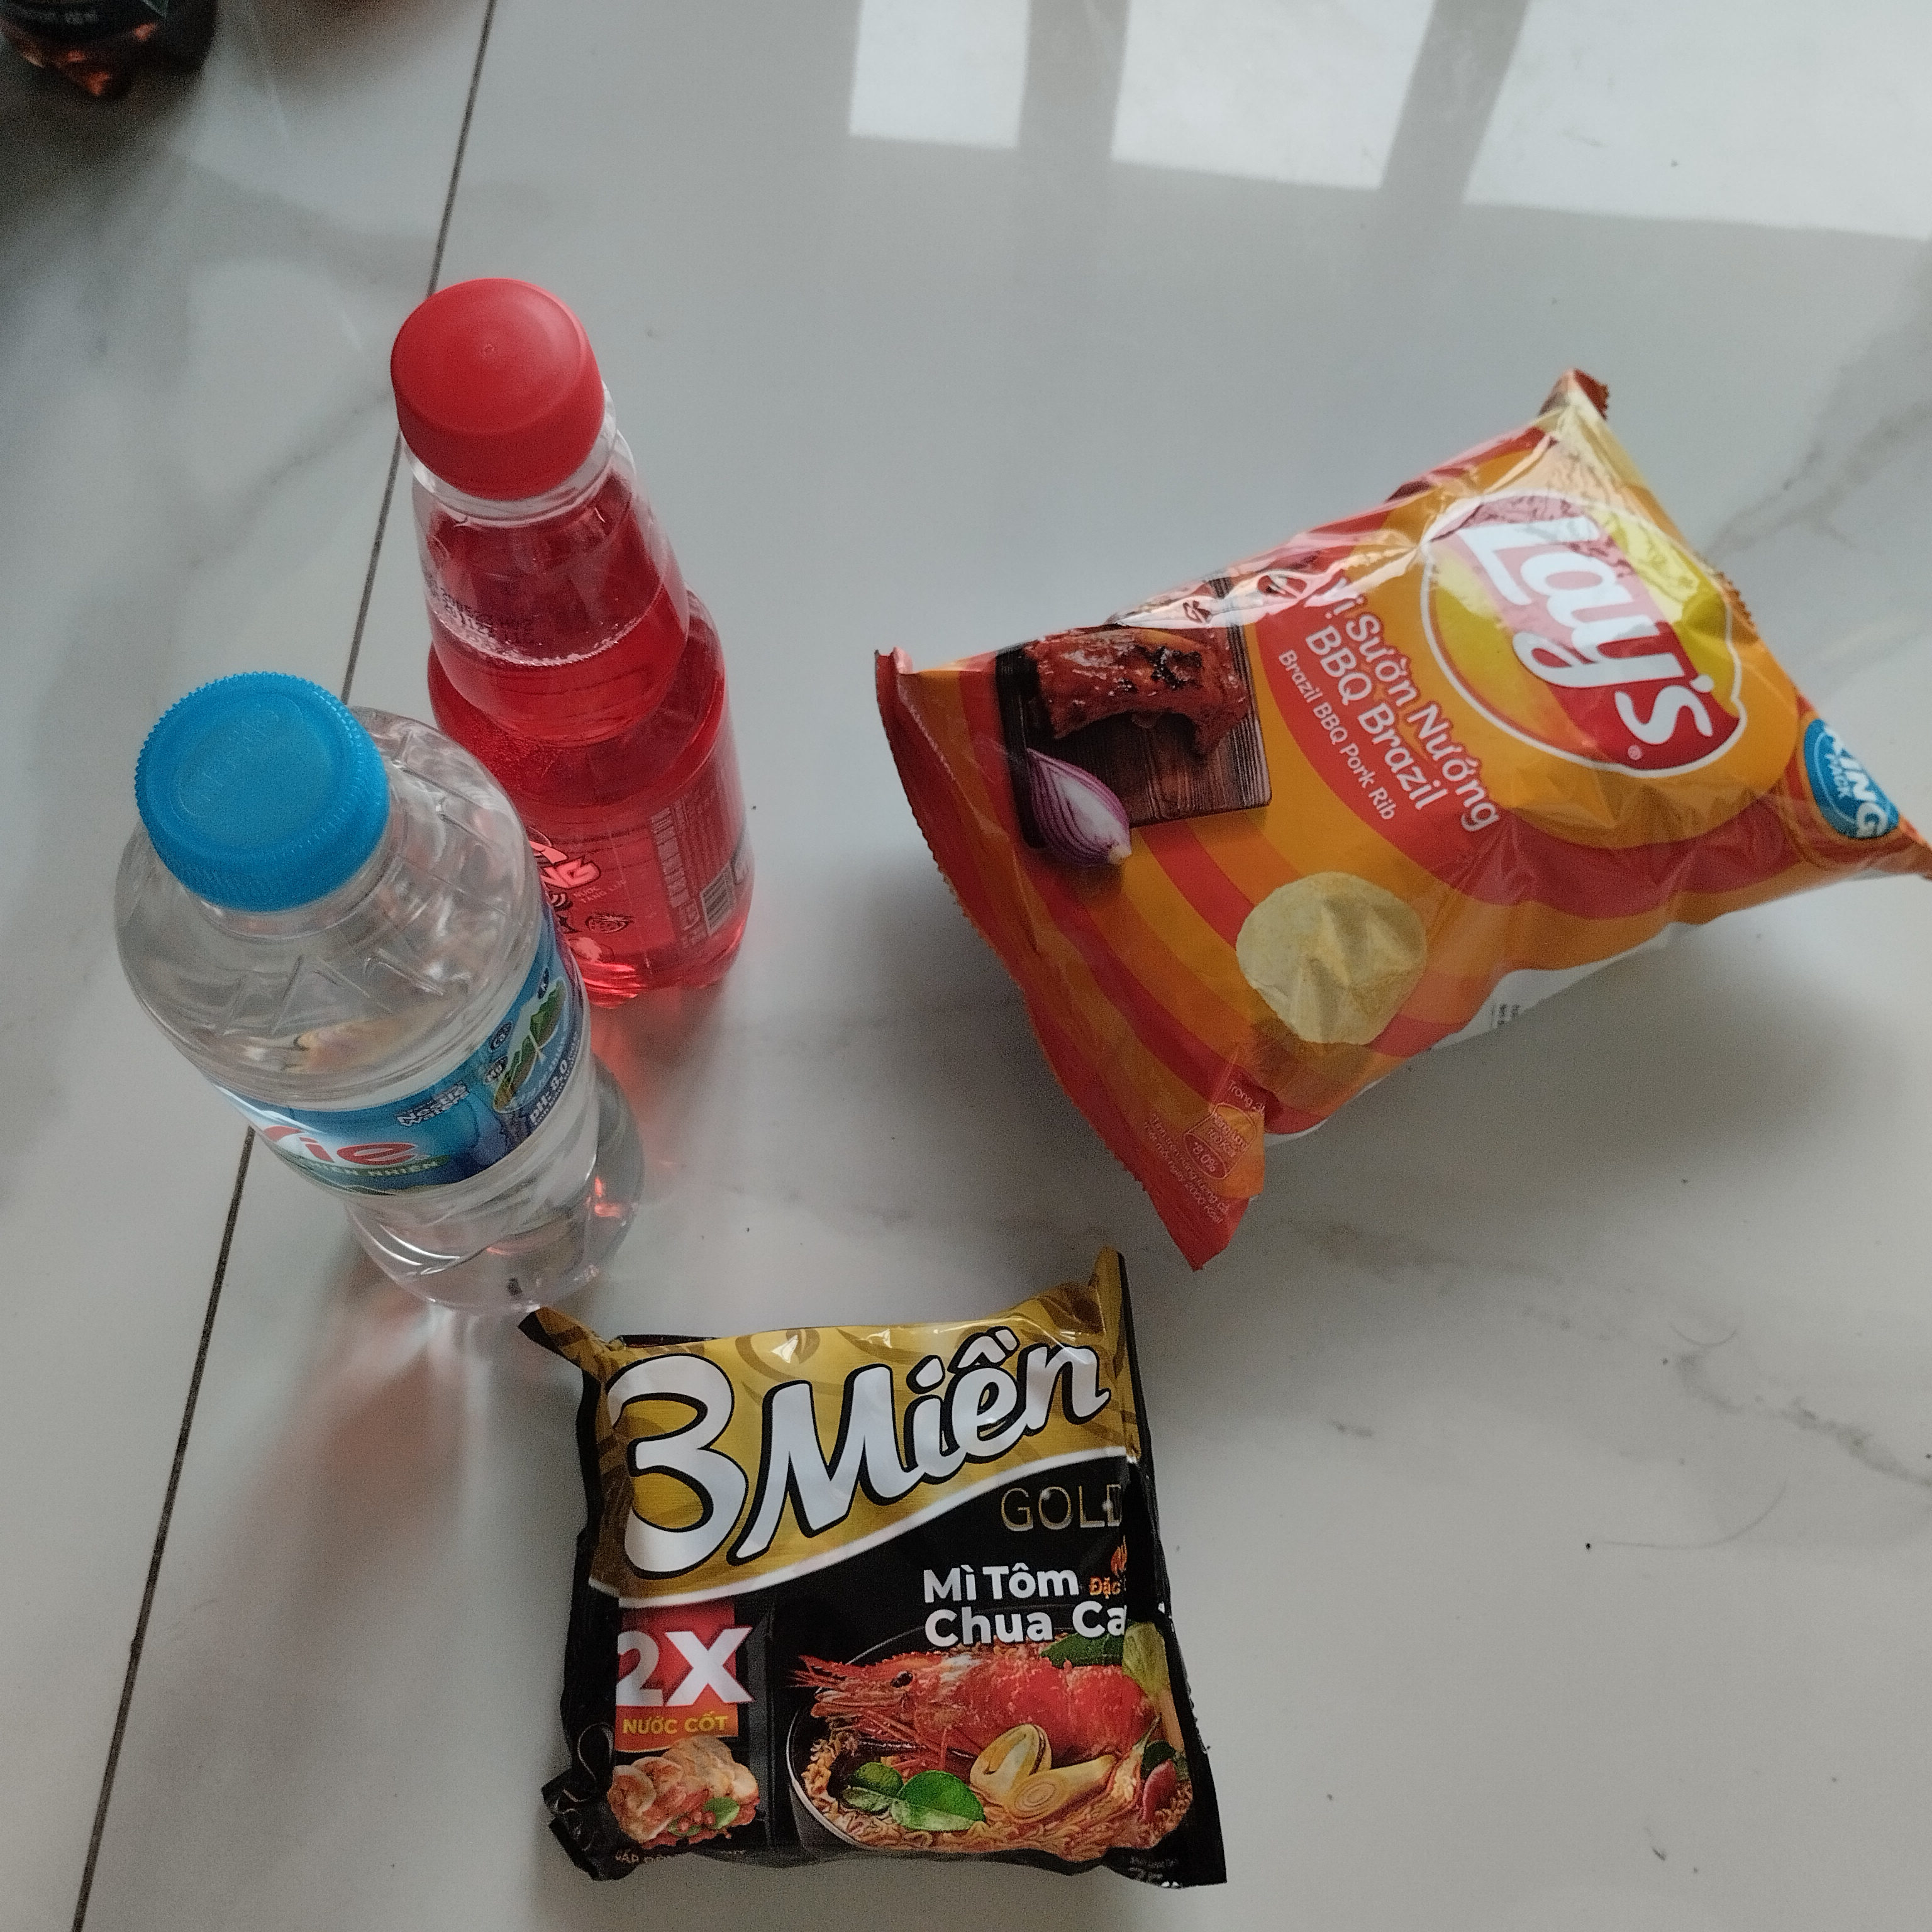3mien: (520, 1244, 1244, 1909)
Lavie: (92, 663, 646, 1325)
Lays: (867, 352, 1932, 1256)
Sting: (366, 274, 768, 1010)
